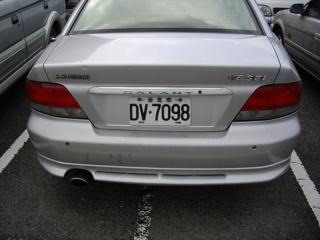plate: (125, 95, 193, 126)
